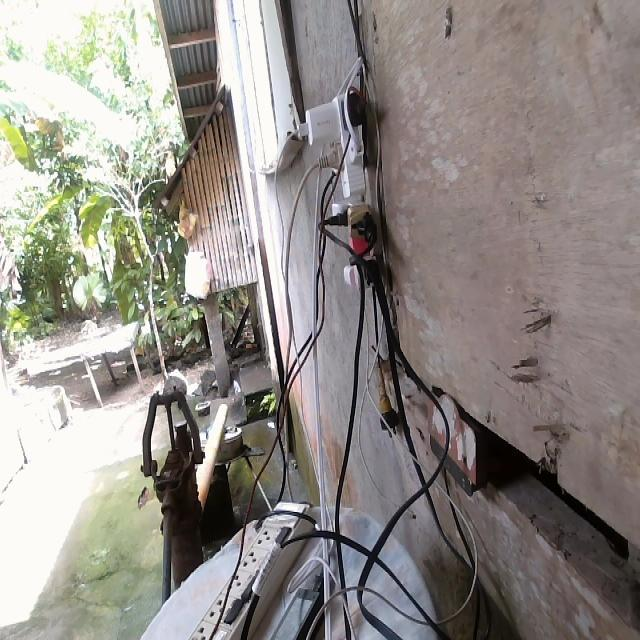-: (299, 69, 387, 295)
